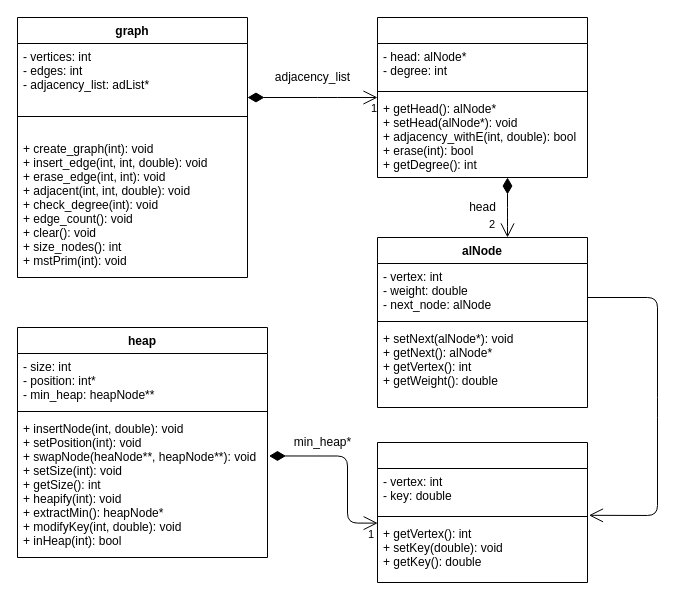
This 689x603 diagram has some shape labels left out. Here are the shapes that lost their labels. From the top down, the box of each, then its label:
(376, 16, 588, 178): adList
(376, 442, 588, 582): heapNode
